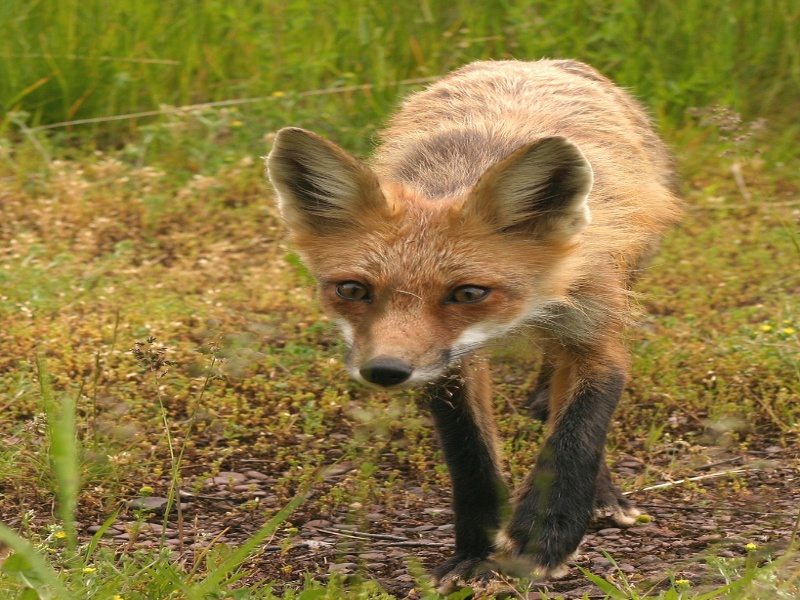fox: (266, 53, 678, 569)
